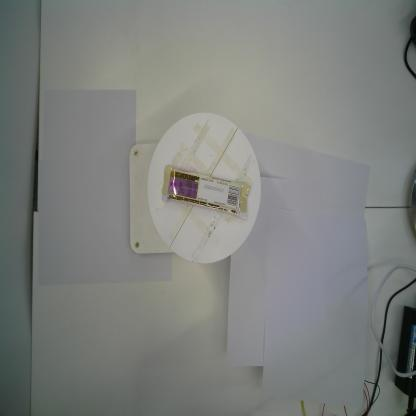Chocolate: (160, 164, 251, 221)
